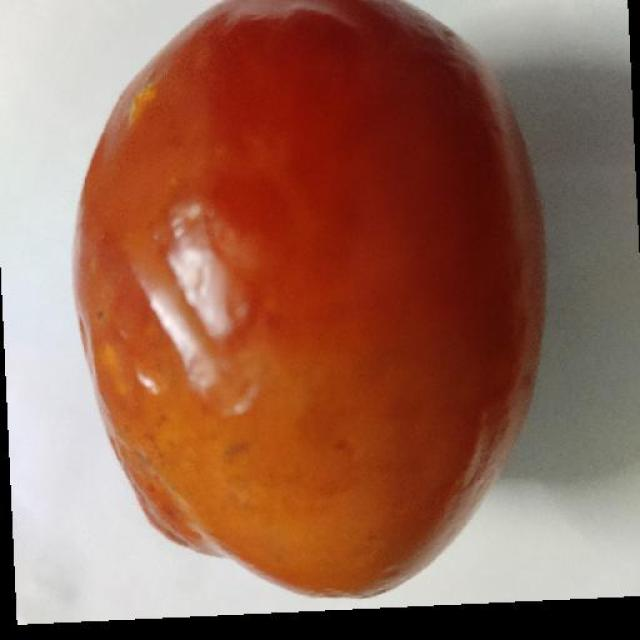Stale_tomato: (81, 12, 525, 596)
